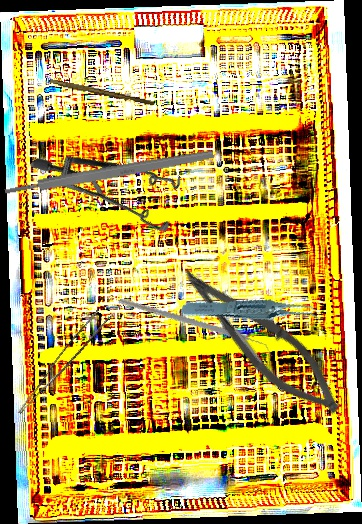Chopper: (117, 265, 273, 391)
Micro Scissor: (163, 256, 357, 428)
Scalpel Handle: (3, 147, 215, 198), (48, 78, 155, 107)
Speculum: (29, 95, 201, 271)
Tissue Forceps: (179, 273, 325, 352), (17, 306, 110, 424)
